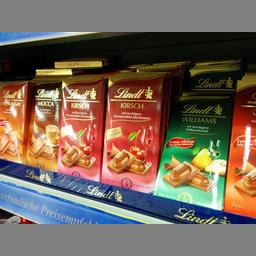chocolate: (158, 76, 230, 206), (102, 73, 161, 191), (57, 76, 103, 182), (24, 84, 59, 172), (0, 79, 25, 162)
